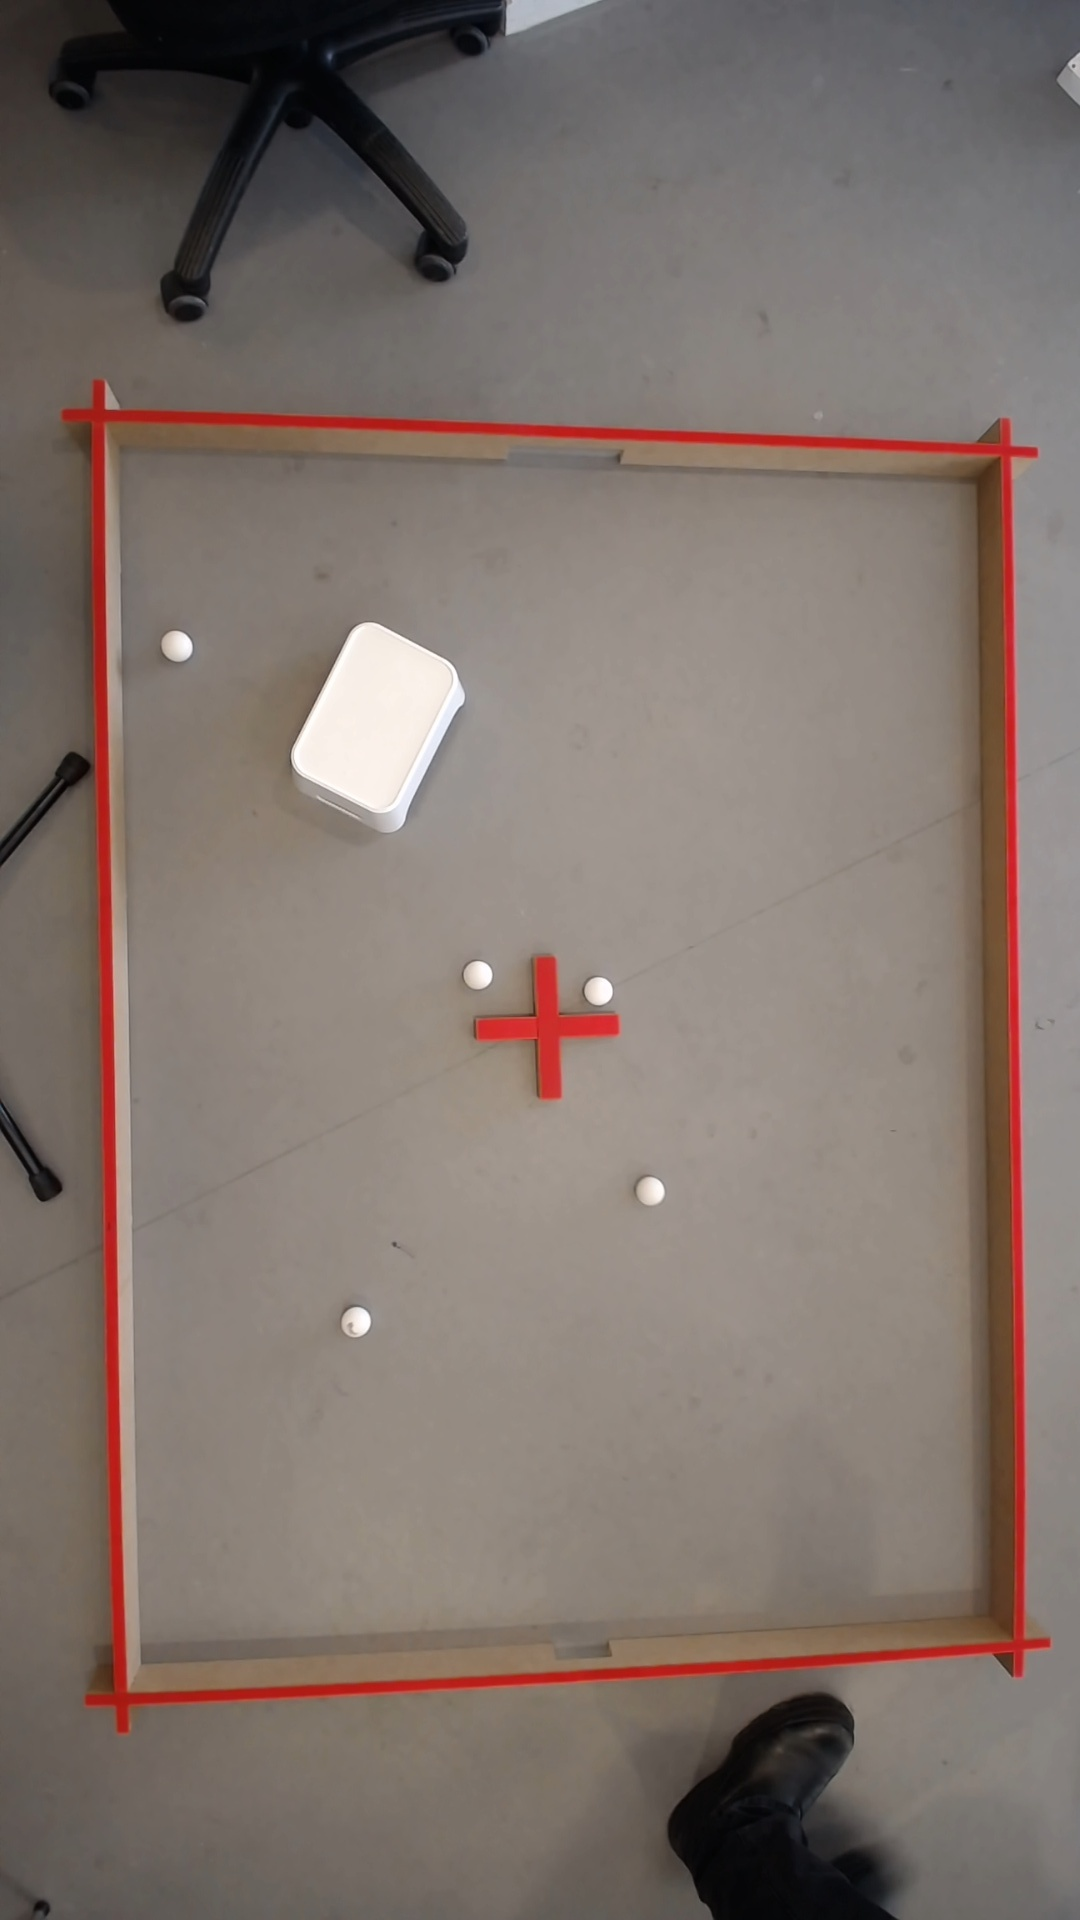balls: (281, 613, 477, 828), (582, 972, 616, 1007), (162, 628, 196, 661), (464, 957, 496, 990), (343, 1303, 375, 1336)
car: (642, 1178, 663, 1204)
